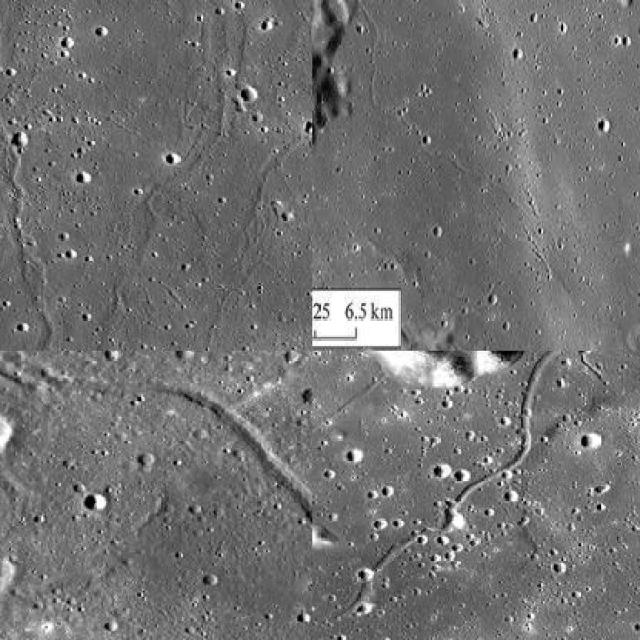rille: (0, 351, 311, 638), (332, 351, 638, 623), (312, 0, 638, 242), (0, 0, 60, 349)
